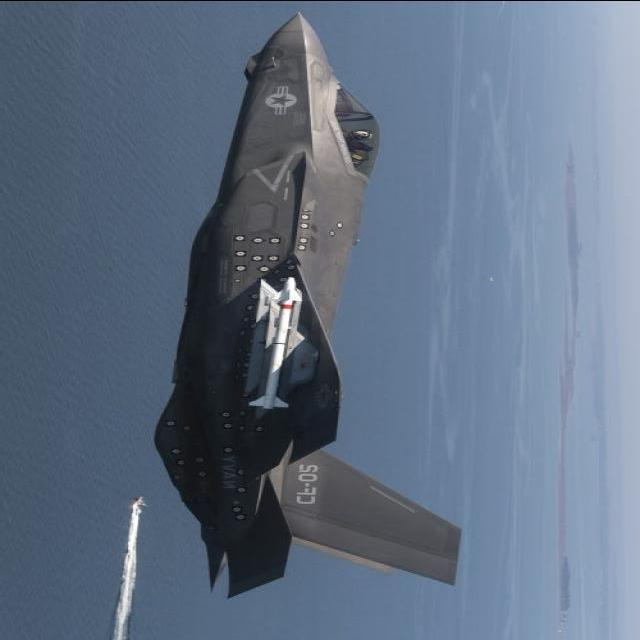missile: (248, 271, 306, 415)
